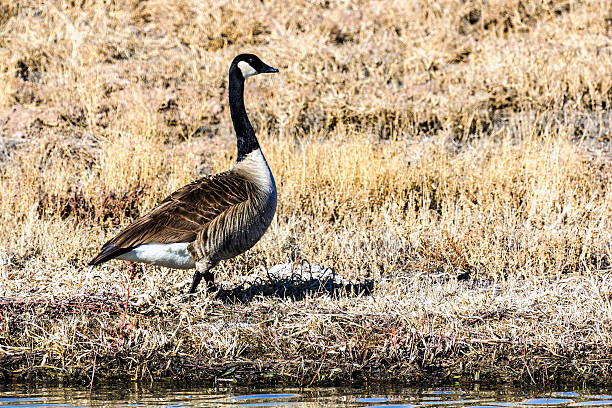goose: (84, 52, 284, 297)
